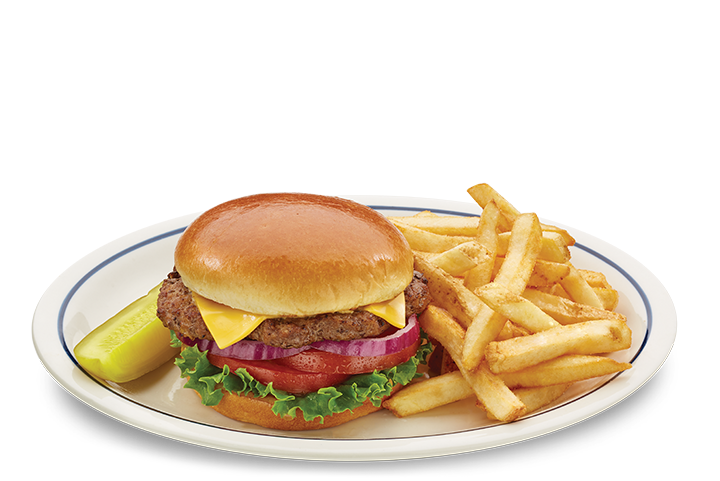hamburger: (144, 171, 450, 431)
